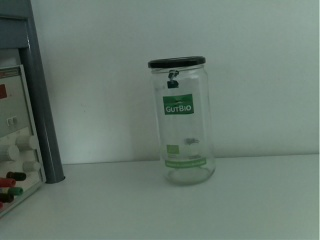pote cristal: (147, 55, 216, 186)
